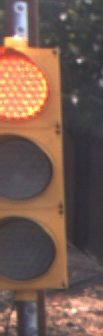Red: (2, 30, 87, 317)
